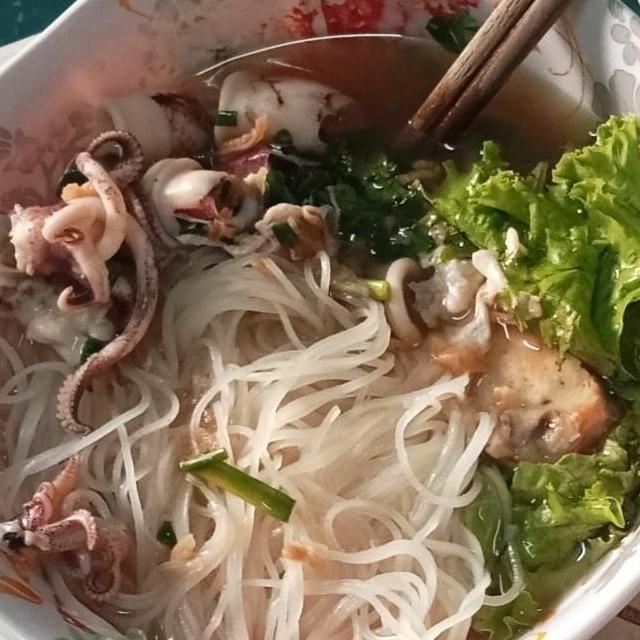banh hu tieu: (124, 240, 525, 640), (0, 293, 199, 534)
hu tieu: (0, 0, 640, 640)
muc: (1, 124, 194, 441), (0, 447, 149, 608), (206, 66, 370, 169), (132, 150, 269, 259), (90, 86, 221, 171), (357, 256, 436, 347)
